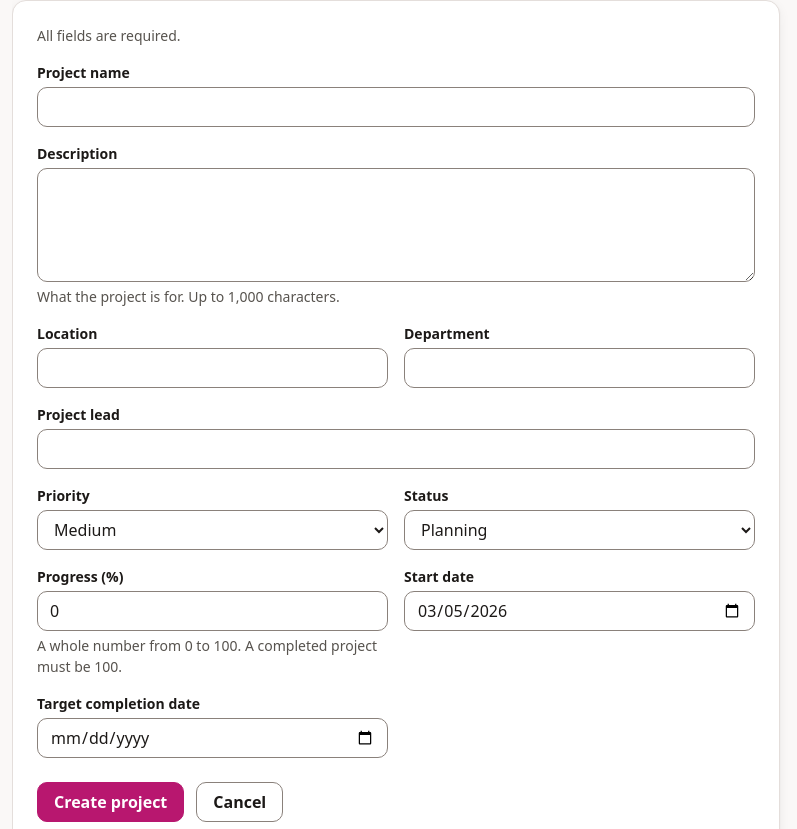
it: ProjectForm validation › clears a field message as soon as that field is edited
The image size is (797, 829).
Click the button "Create project" at (111, 802), box [37, 782, 184, 822]
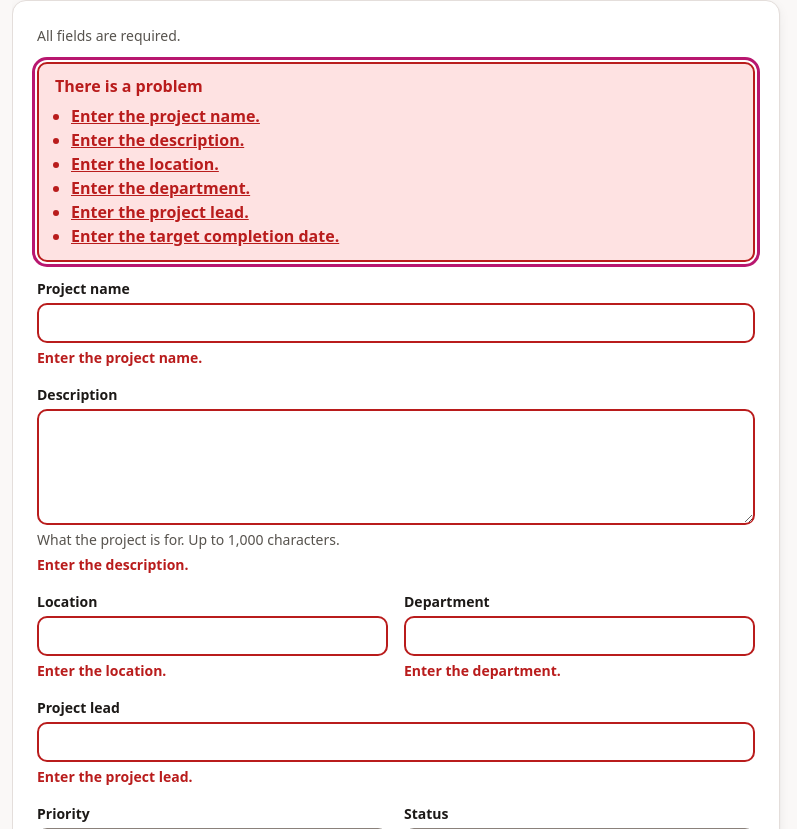
Check: the link "Enter the project name." is shown, box [71, 105, 260, 127]
Type "Something" into the field labelled "Project name" at (396, 323), box [37, 303, 755, 343]
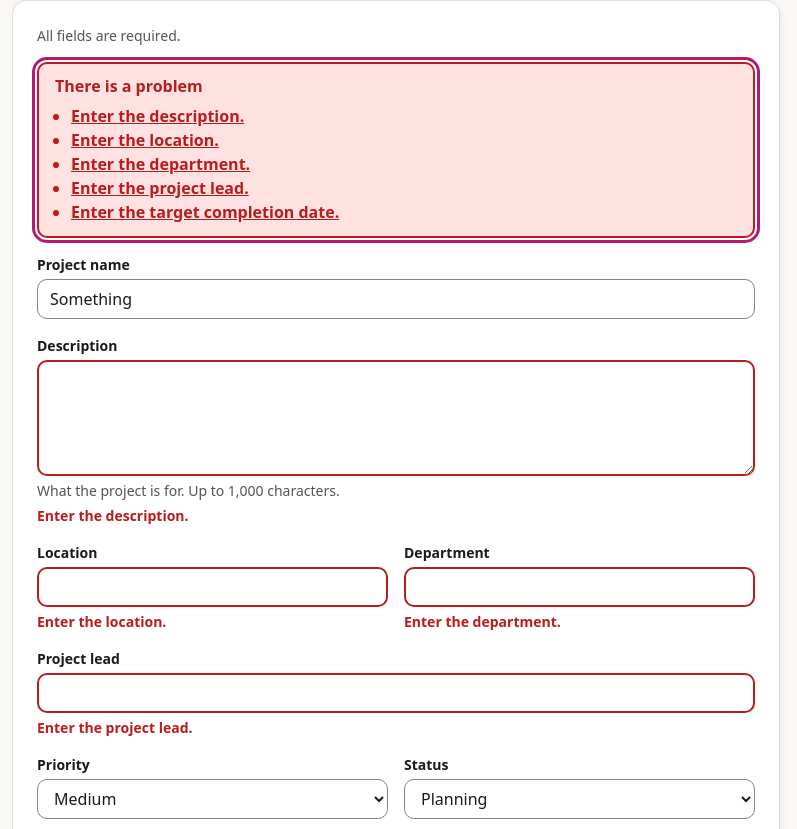
Check: the link "Enter the location." is shown, box [71, 129, 219, 151]
Check: the link "Enter the project name." is gone
